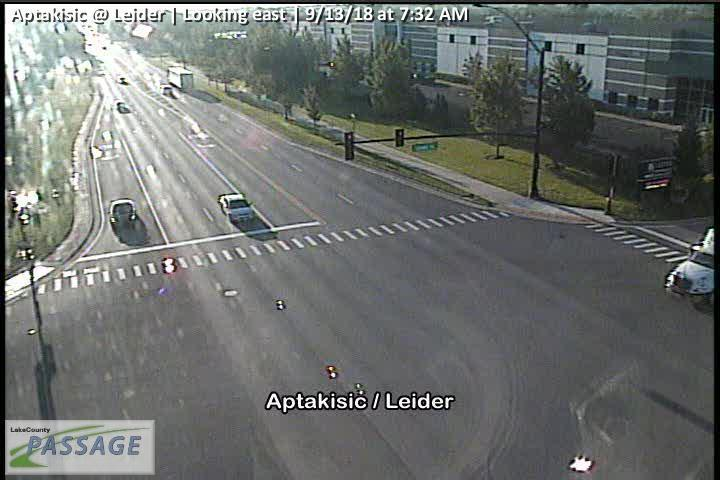SUV: (662, 226, 715, 297)
Sedan: (219, 193, 253, 223), (110, 200, 136, 227), (117, 101, 128, 114), (160, 85, 172, 96)
Truck: (167, 66, 194, 92)
